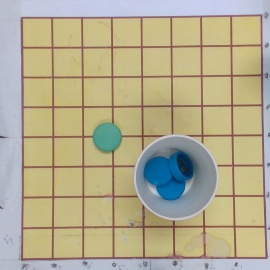cup_blue: (135, 136, 220, 219)
green: (91, 123, 121, 152)
